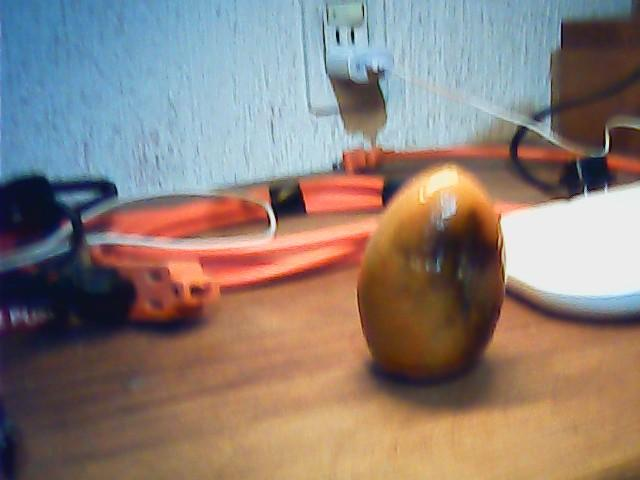defectuoso: (358, 162, 507, 382)
